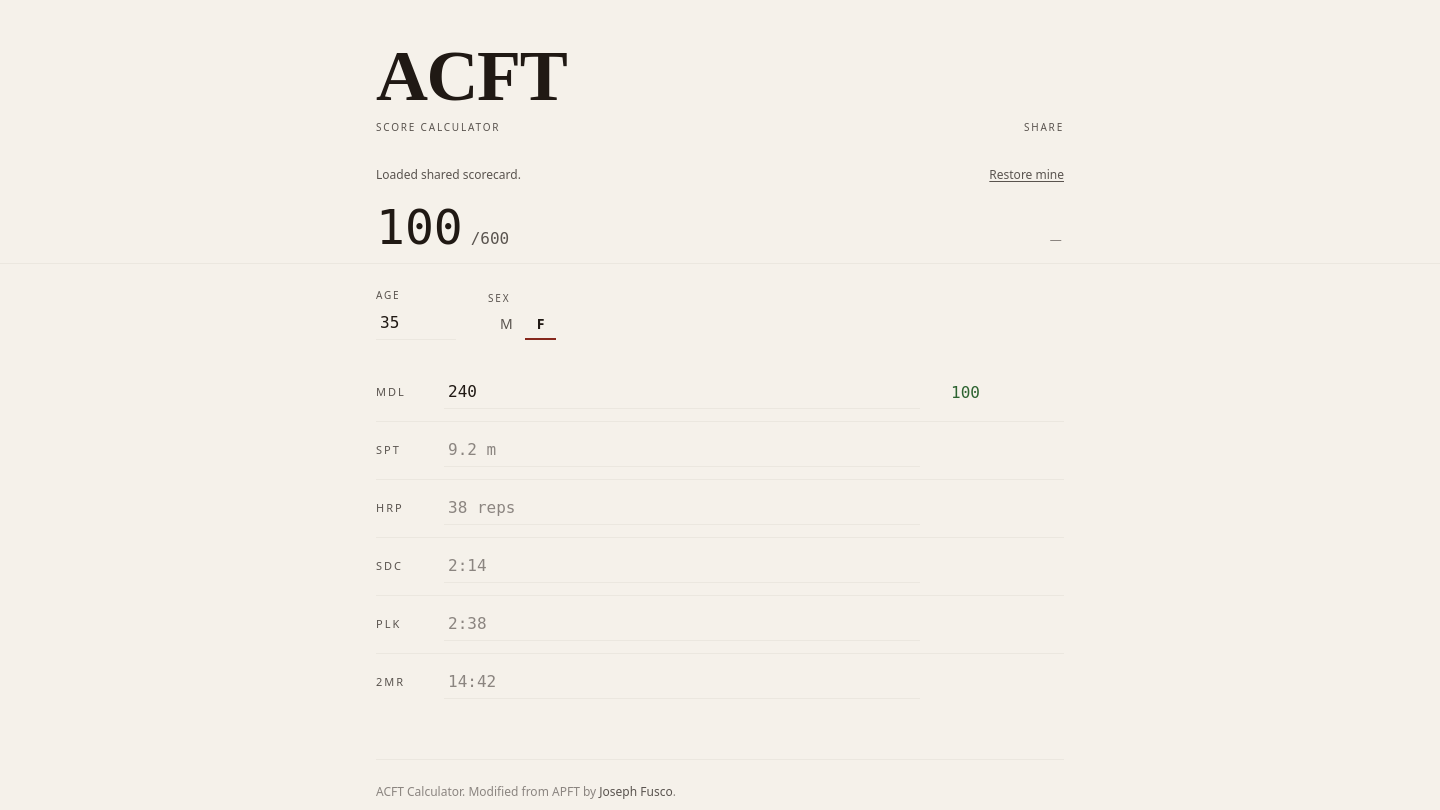
Test: App integration › hydrates from URL on mount and offers Restore mine when localStorage differs
This screenshot has width=1440, height=810.
Expected: the number field labelled "Age" holds "35", [376,307,456,340]
Expected: the field labelled "MDL" holds "240", [444,376,920,409]
Click the button "Restore mine": (1027, 175) [989,167,1064,183]
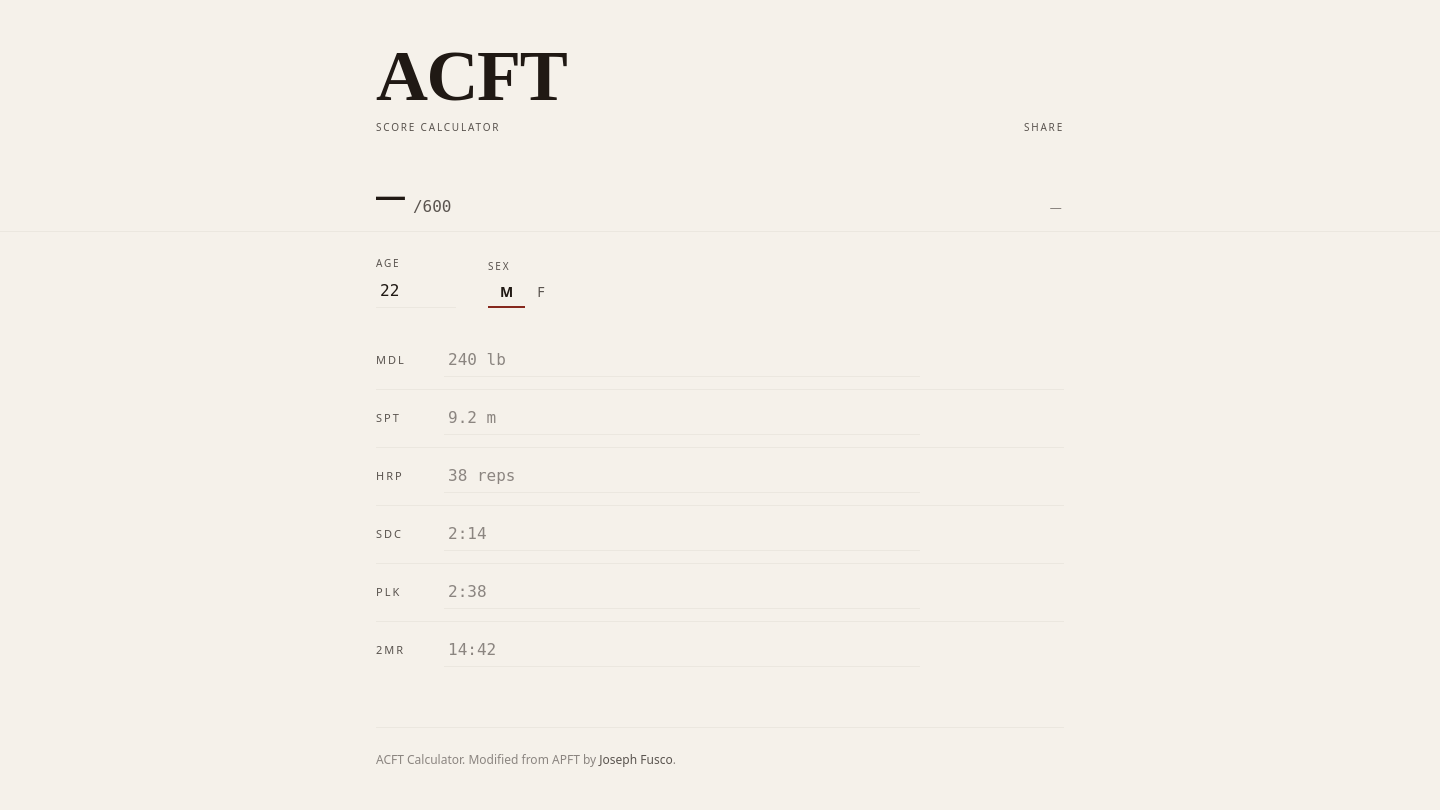
Now the number field labelled "Age" holds "22", box [376,275,456,308]
Now the field labelled "MDL" is empty, box [444,344,920,377]
